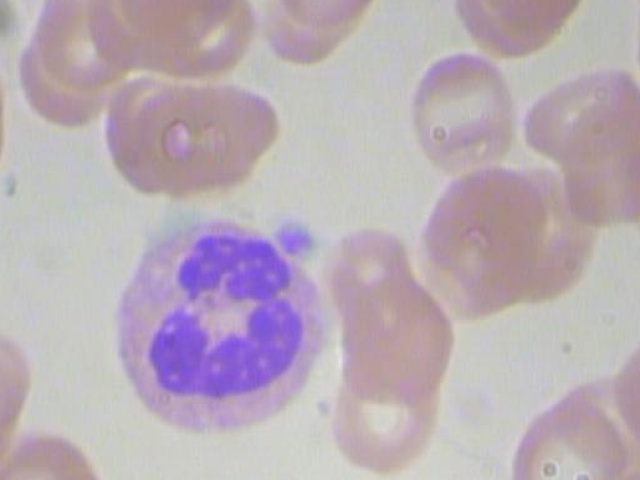RBC: (397, 161, 549, 331), (131, 77, 289, 206), (329, 278, 462, 404), (404, 39, 524, 178), (324, 364, 450, 479), (498, 397, 631, 480), (117, 0, 235, 48), (0, 320, 43, 446), (472, 0, 595, 44), (268, 0, 387, 33), (0, 54, 14, 166)
WBC: (108, 204, 345, 445)
